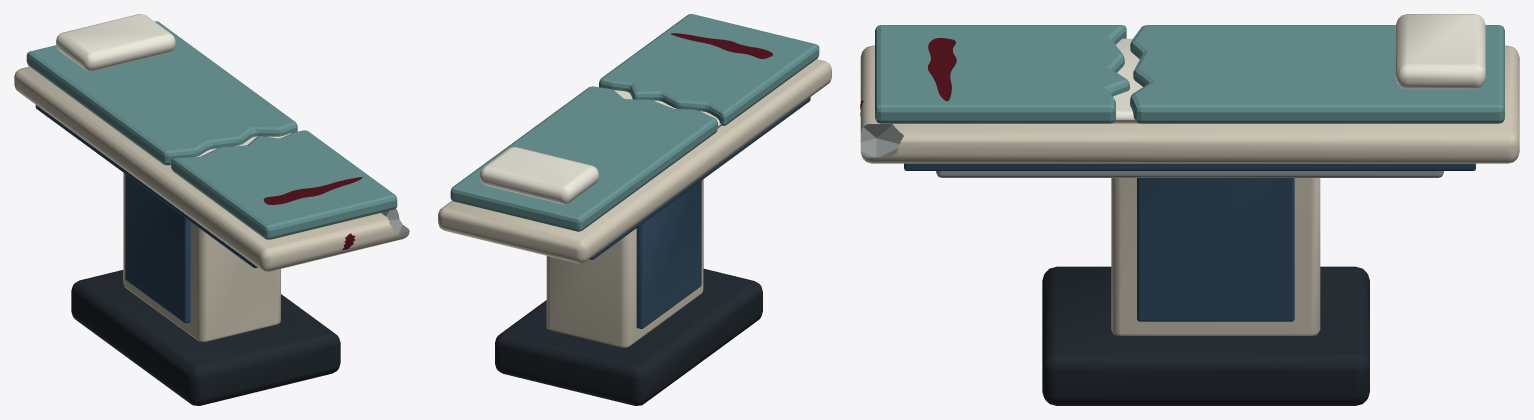
The model's file is ct_sliding_patient_table.glb.
3 renders of one model, left to right at view 1: azimuth 30°, elevation 25°; view 2: azimuth 150°, elevation 25°; view 3: azimuth 270°, elevation 25°, orthographic. The views are drawn at different scales.
Parts seen in each view (by area): view 1: Sliding_Table_Top_Mesh, Static_Shell_Mesh; view 2: Sliding_Table_Top_Mesh, Static_Shell_Mesh; view 3: Sliding_Table_Top_Mesh, Static_Shell_Mesh.
Boxes of the visible parts, <box> form: Sliding_Table_Top_Mesh: <box>14,14,409,271</box>; Static_Shell_Mesh: <box>71,173,340,405</box>; Sliding_Table_Top_Mesh: <box>438,14,831,263</box>; Static_Shell_Mesh: <box>495,179,762,405</box>; Sliding_Table_Top_Mesh: <box>860,14,1519,170</box>; Static_Shell_Mesh: <box>936,171,1443,405</box>.
Bounding box in the file's own units: 0.71 × 1.11 × 2.05.
